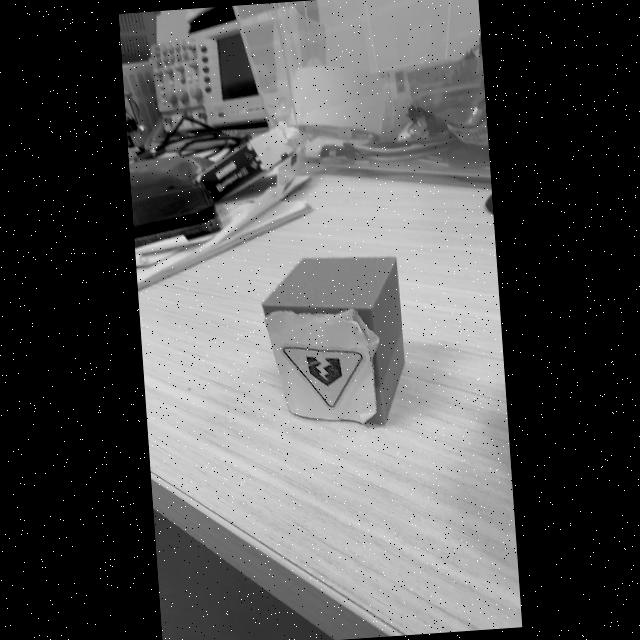Earthquake: (283, 346, 363, 407)
